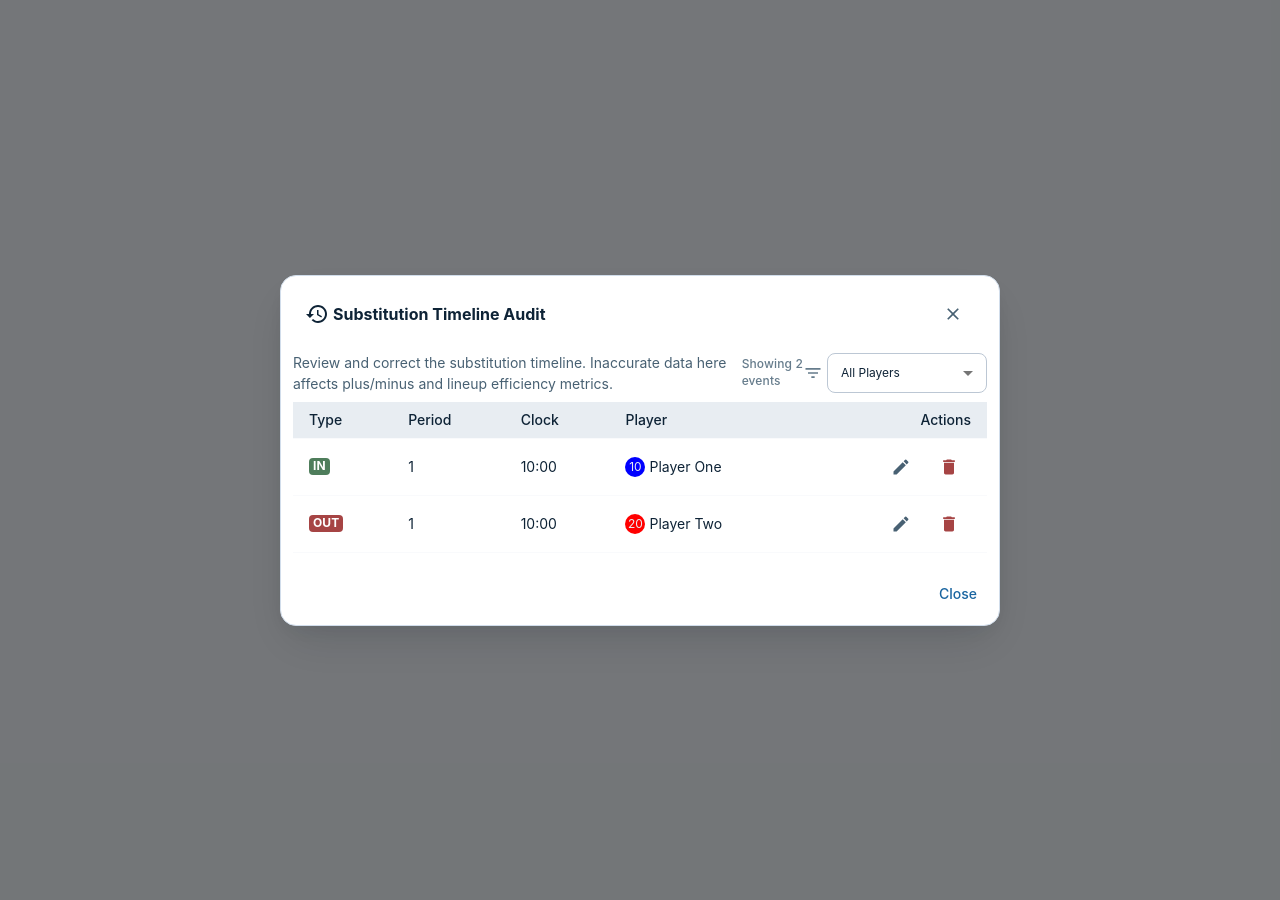
SubstitutionAuditDialog › filters events by player
Check: the text "Player One" is shown, box [650,456,722,477]
What coordinates should you click on to do the following:
click the dropdown labelled "All Players"
I would click on:
 (870, 372)
Its box is [841,365,900,380].
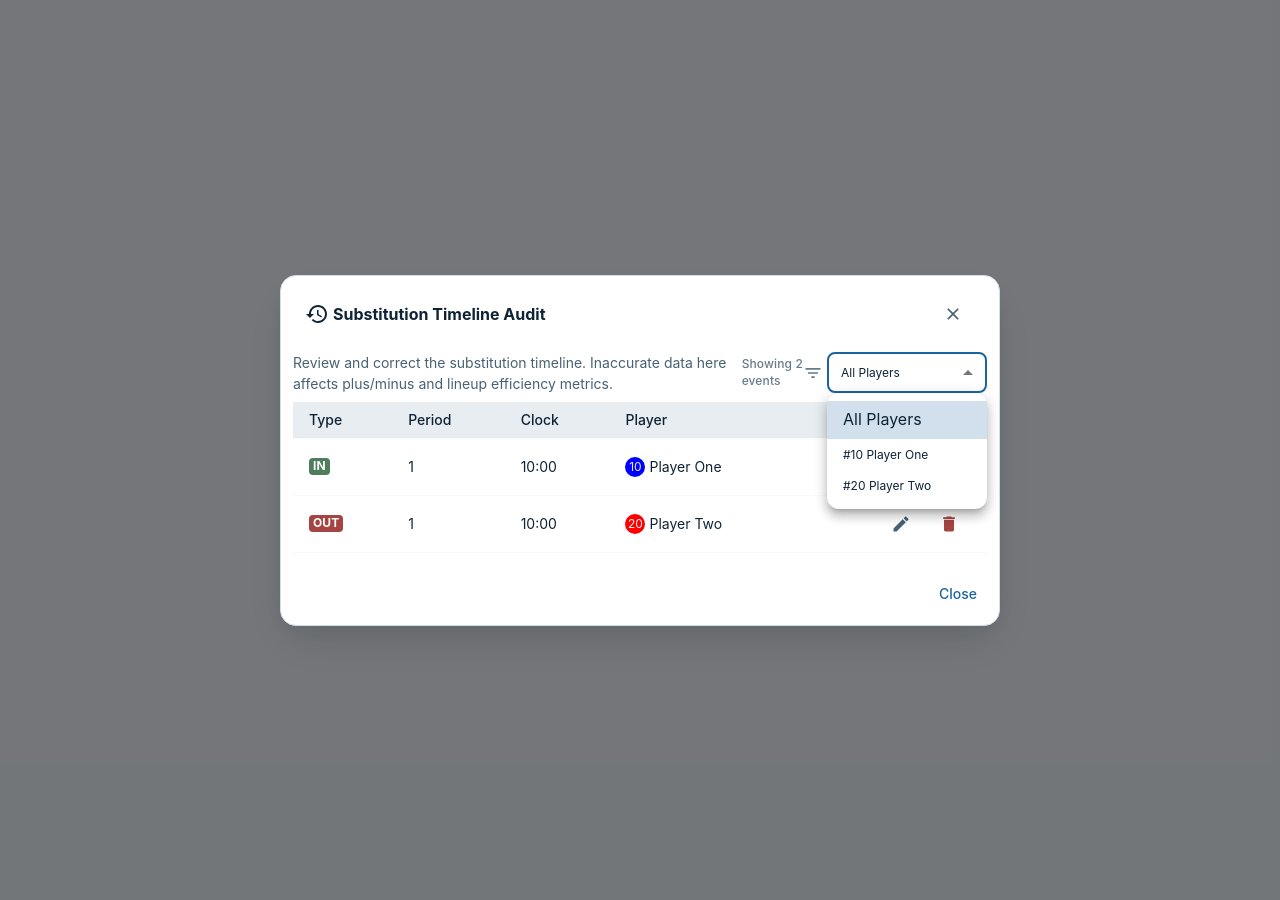
What coordinates should you click on to do the following:
click the option "#10 Player One"
I would click on:
 (886, 454)
Its box is [843,447,928,462].
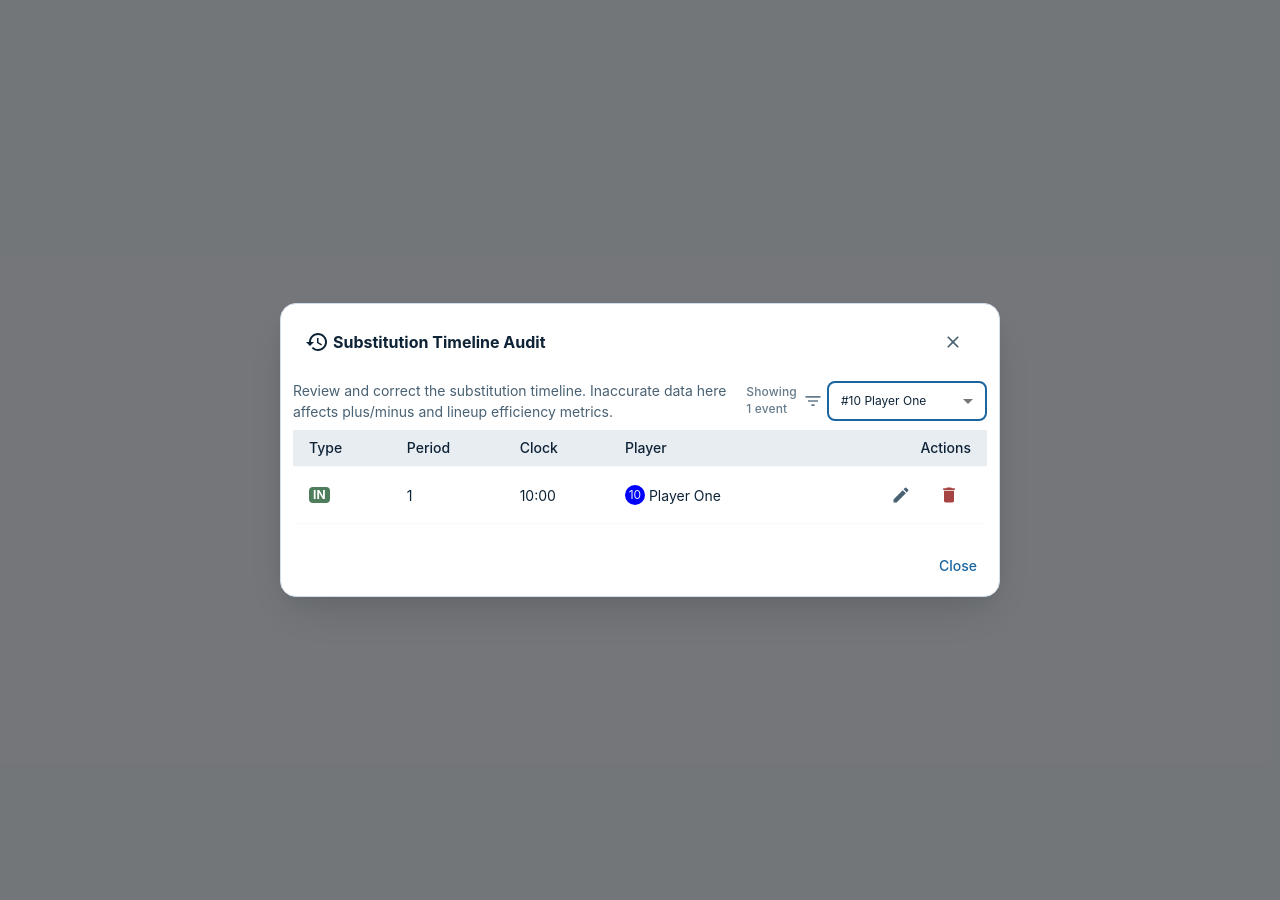
Check: the text "Player One" is shown, box [649,484,721,506]
Check: the text "Player Two" is gone
